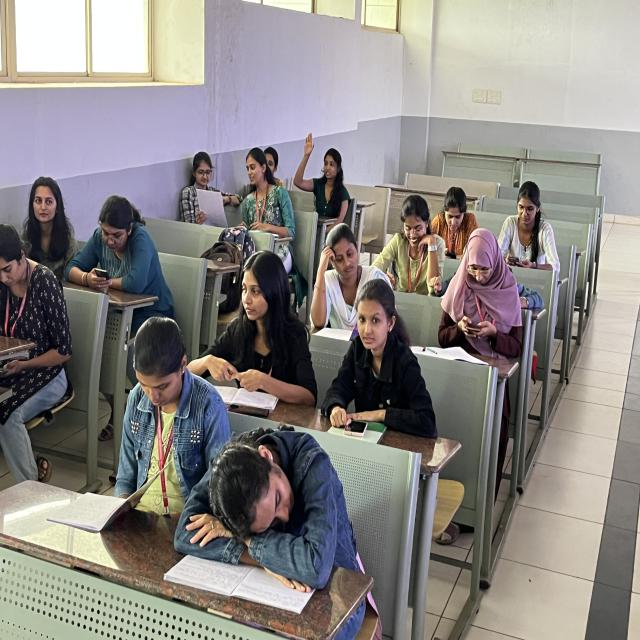Hand Rising: (293, 124, 358, 226)
Reading: (184, 253, 310, 414), (206, 126, 288, 252), (376, 187, 459, 305), (179, 141, 235, 229)
Sleeping: (168, 407, 388, 597)
Using Phone: (111, 294, 233, 512), (441, 216, 518, 356), (73, 200, 163, 314)
